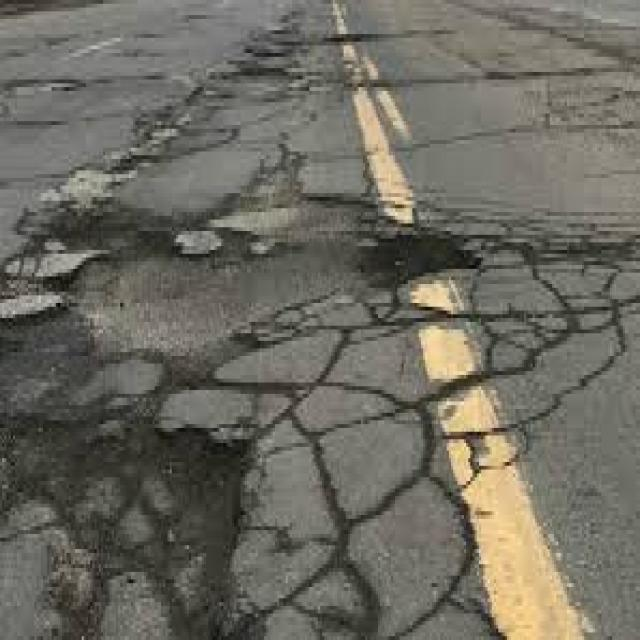Pothole: (0, 135, 497, 640)
